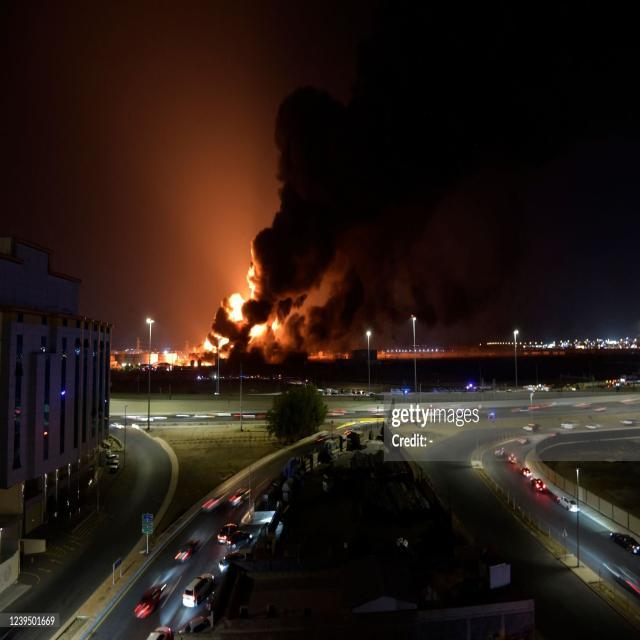Fire: (209, 293, 303, 354)
Smoke: (250, 5, 360, 292)
